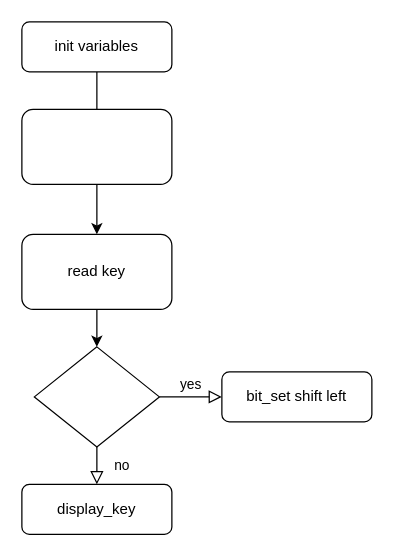
Some shapes in this 394 by 556 pixel diagram are drawn without their labels. The shapes that lost their labels are listed below. From the top down, each one's centre as x and y in pixels, then its label:
At (x=96, y=146): "main loop".
At (x=96, y=396): "key == function".
